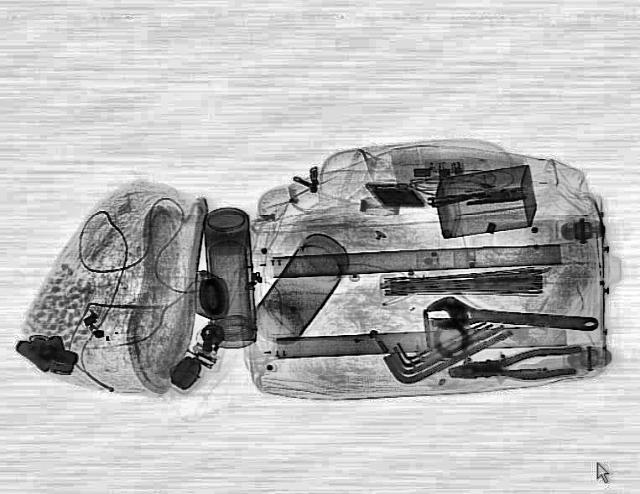Pliers: (446, 344, 586, 388)
Wrench: (424, 296, 598, 338)
